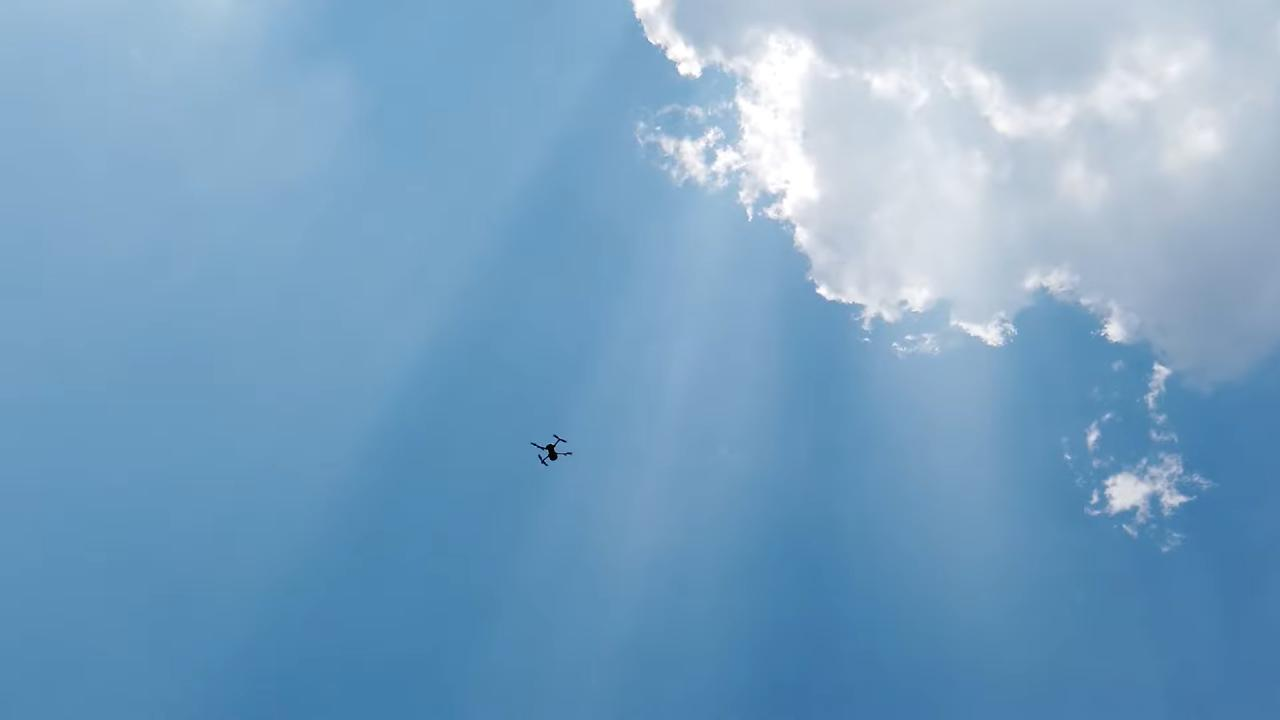Drone: (523, 425, 578, 475)
